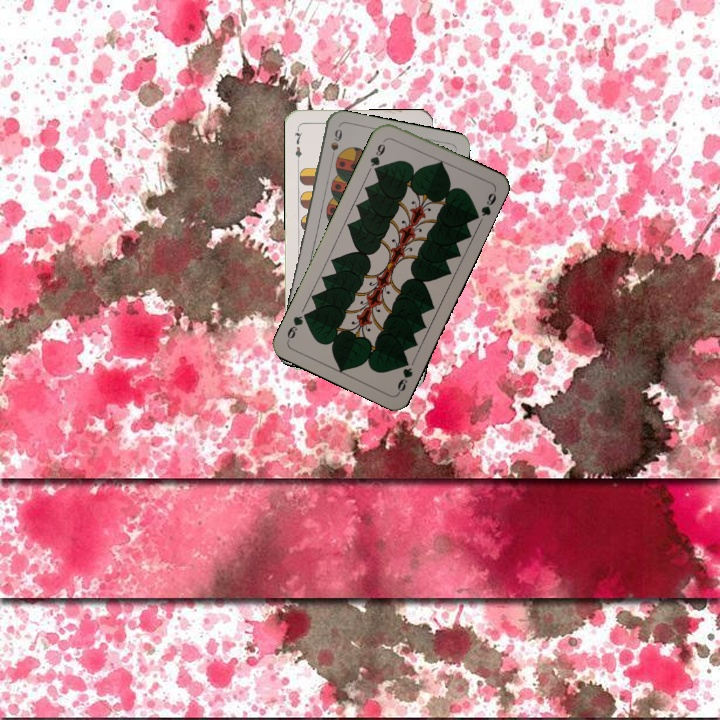E7: (290, 125, 305, 165)
G9: (393, 355, 415, 396), (366, 140, 388, 175)
S9: (327, 125, 345, 164)
